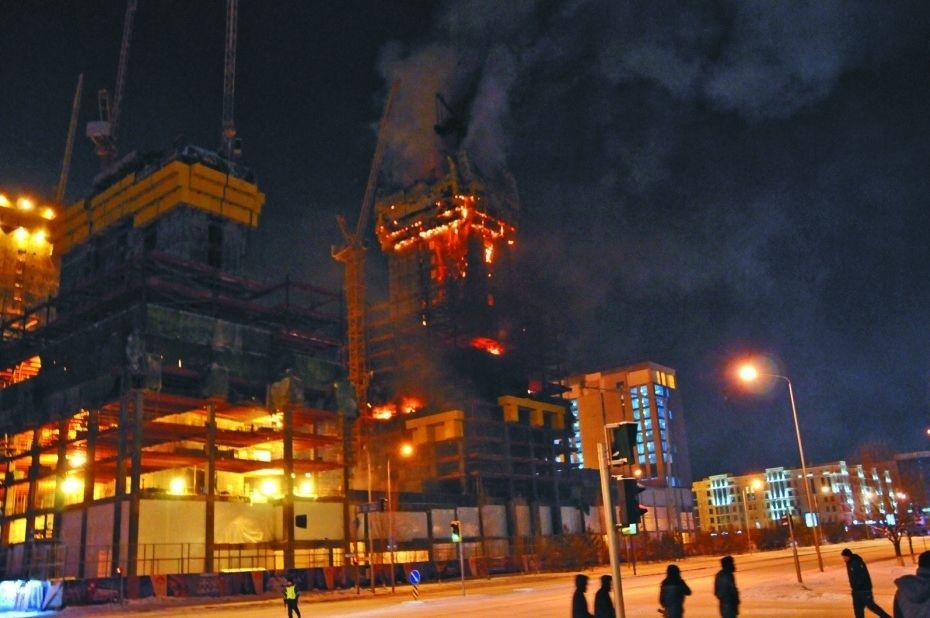fire: (4, 393, 331, 515), (380, 193, 513, 280), (372, 393, 422, 419), (469, 331, 507, 354)
